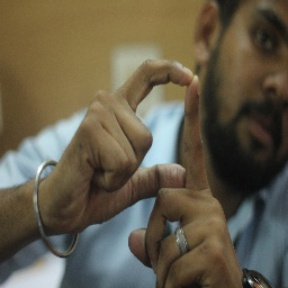D: (93, 52, 222, 214)
